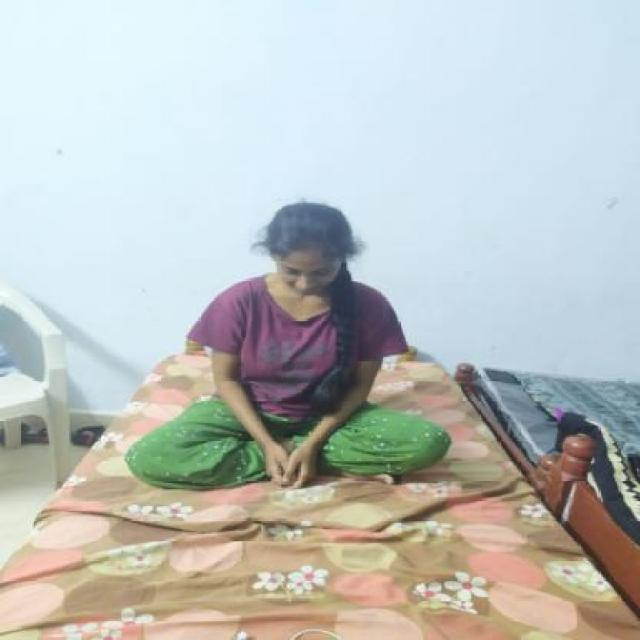good: (177, 190, 417, 481)
